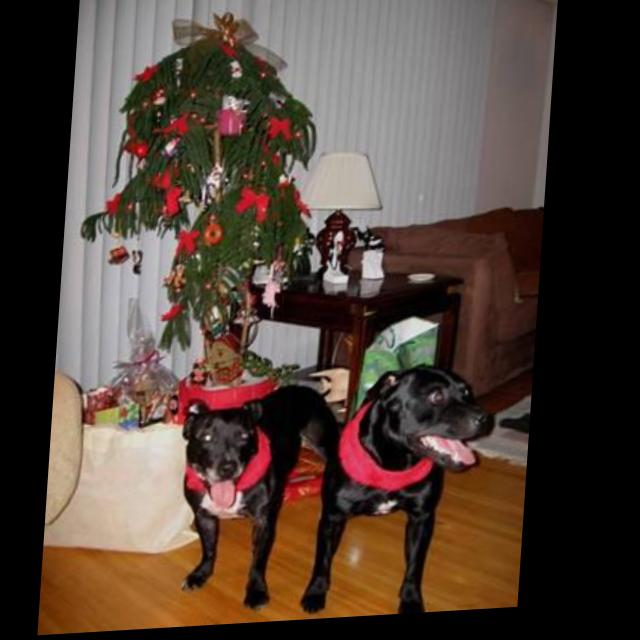staffford: (309, 364, 507, 625), (180, 384, 353, 619)
